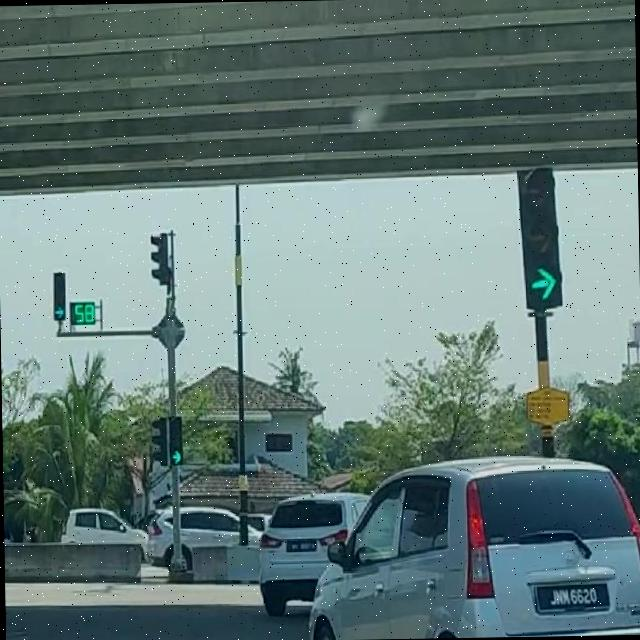green_light: (516, 167, 562, 310), (167, 416, 182, 464), (52, 271, 65, 319)
